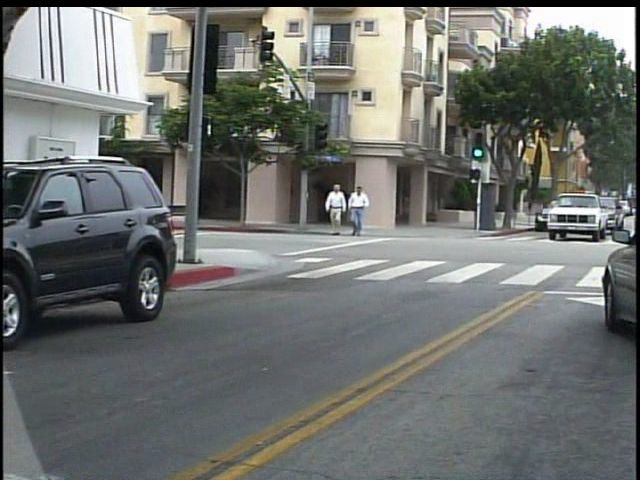person: (351, 182, 378, 240), (331, 180, 355, 242)
